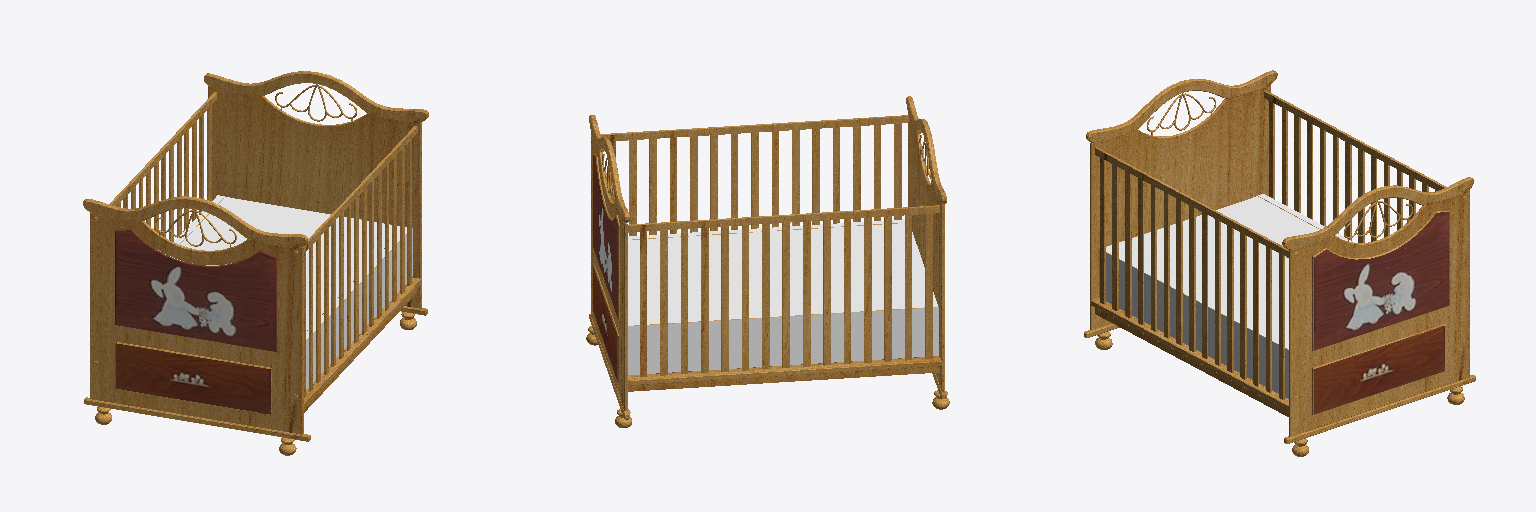
The picture shows the model from 3 angles: view 1: azimuth 30°, elevation 25°; view 2: azimuth 150°, elevation 25°; view 3: azimuth 270°, elevation 25°; orthographic projection.
Parts seen in each view (by area): view 1: cuna:Rectangle0; view 2: cuna:Rectangle0; view 3: cuna:Rectangle0.
Boxes of the visible parts, x1=… form: cuna:Rectangle0: x1=83, y1=71, x2=428, y2=455; cuna:Rectangle0: x1=586, y1=96, x2=949, y2=427; cuna:Rectangle0: x1=1084, y1=70, x2=1475, y2=456.
Bounding box in the file's own units: 2.26 × 1.48 × 2.19.
Materials: 4 (4 with a texture image).